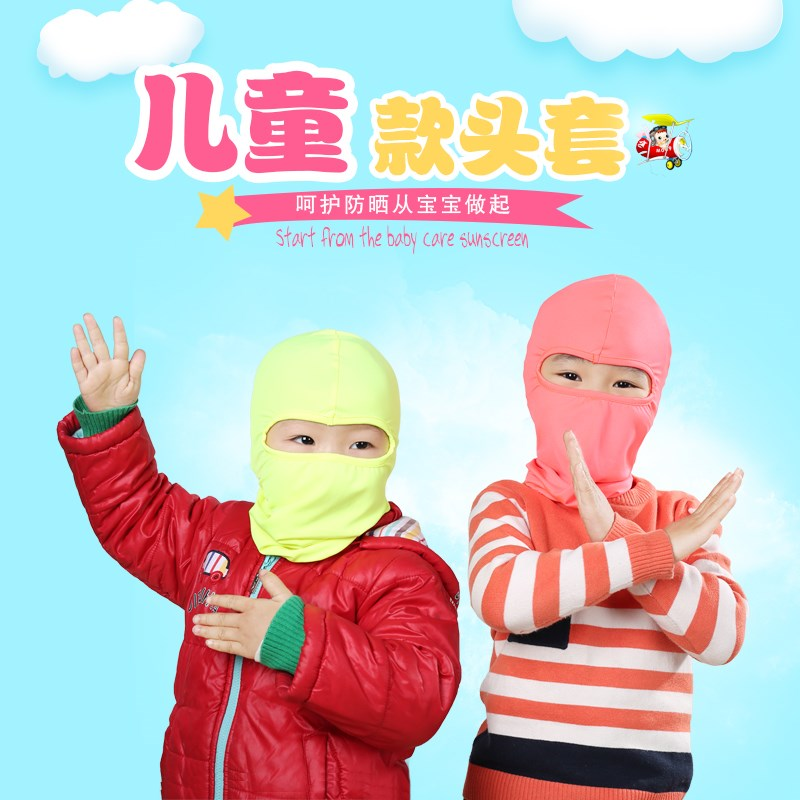face_mask: (260, 391, 388, 531), (537, 329, 655, 479)
